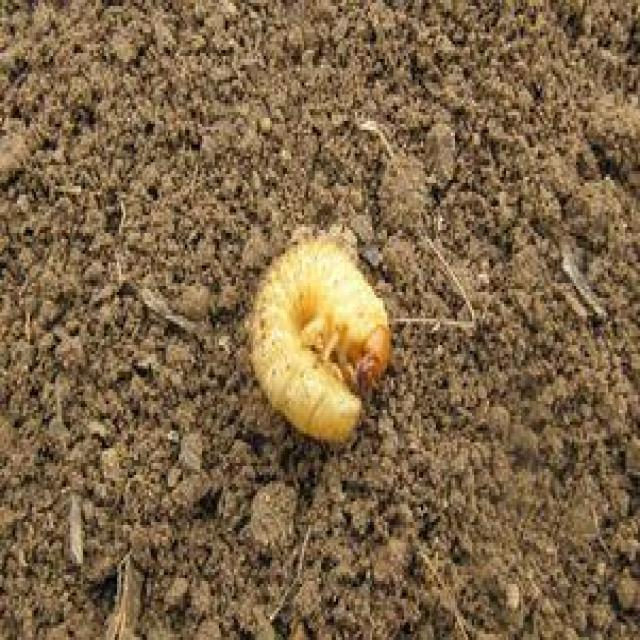Grub-Adult-: (228, 223, 408, 458)
